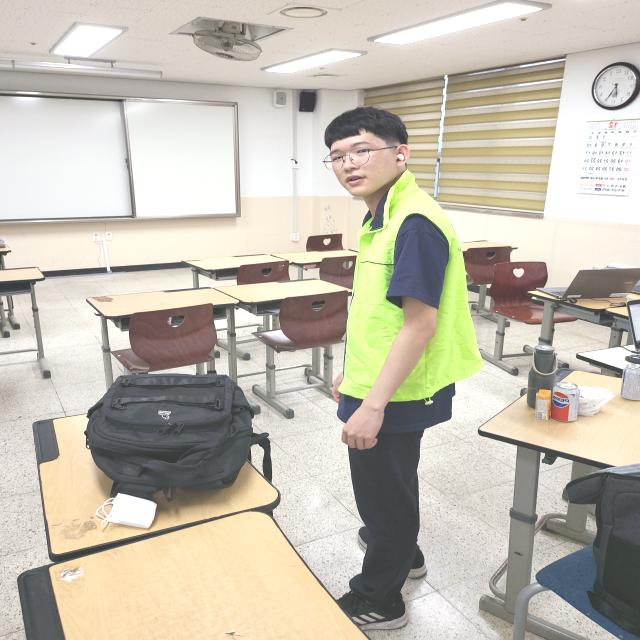weston_spy: (311, 161, 502, 416)
